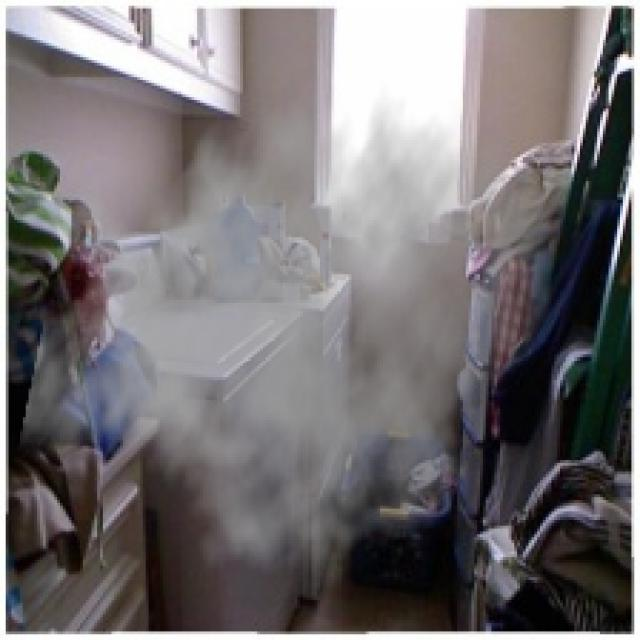smoke: (17, 46, 560, 594)
